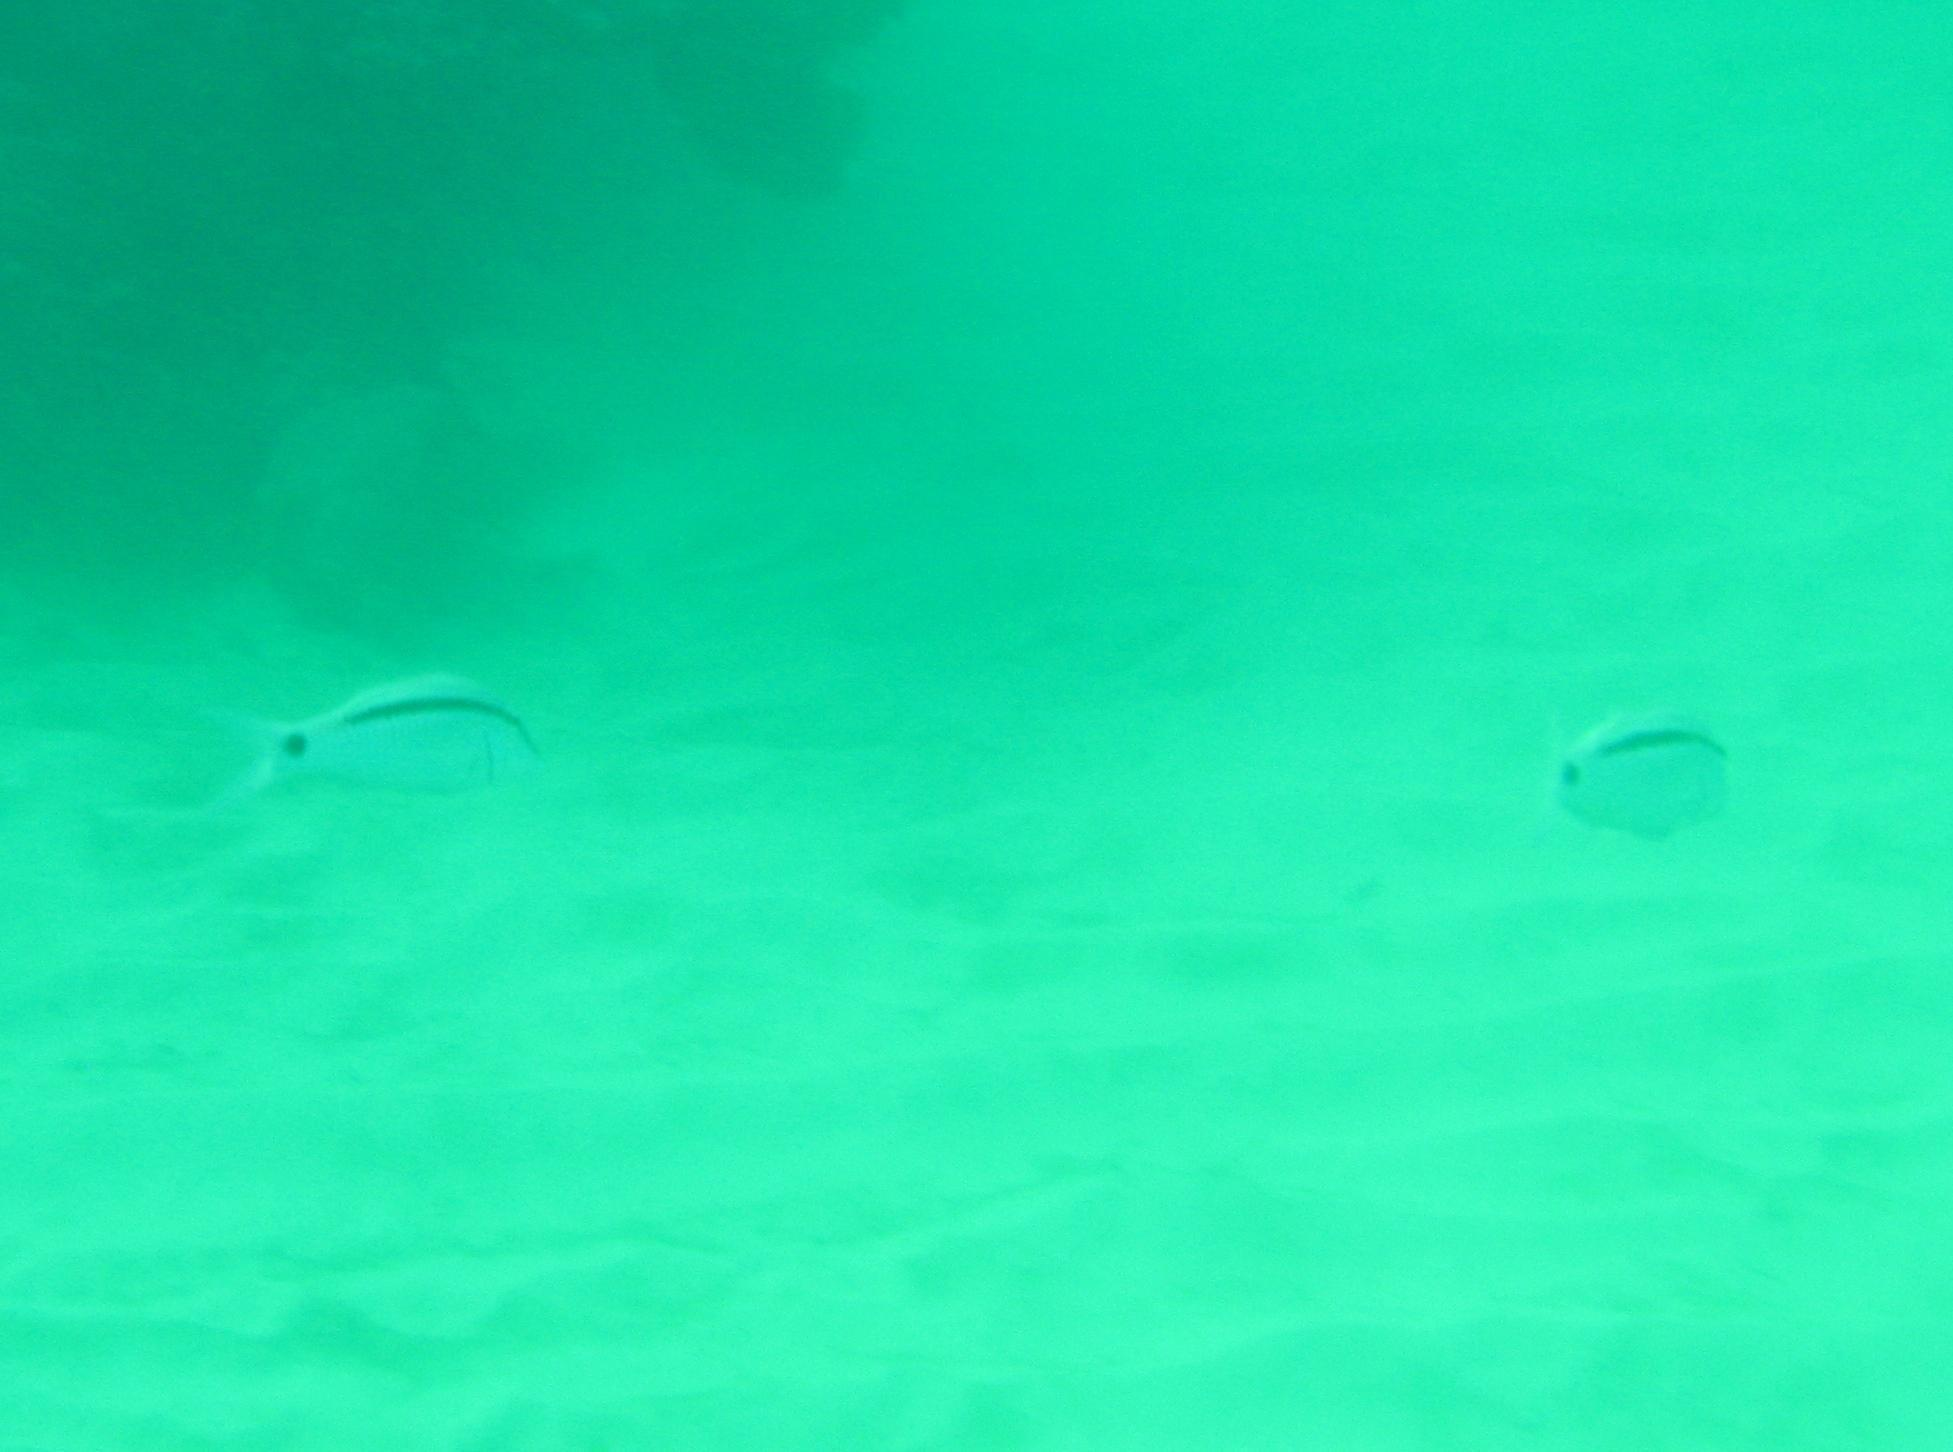Fish: (1397, 676, 1845, 917), (181, 644, 570, 879)
